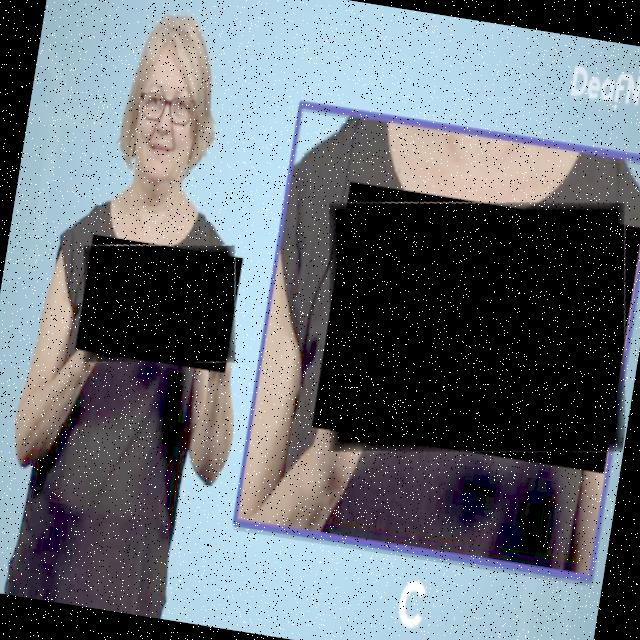C: (302, 171, 640, 487), (72, 229, 250, 381)
